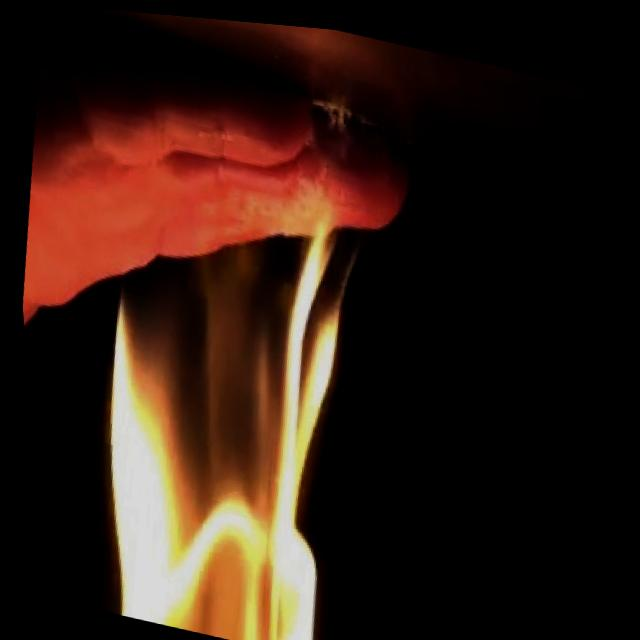Fire: (38, 153, 375, 640)
